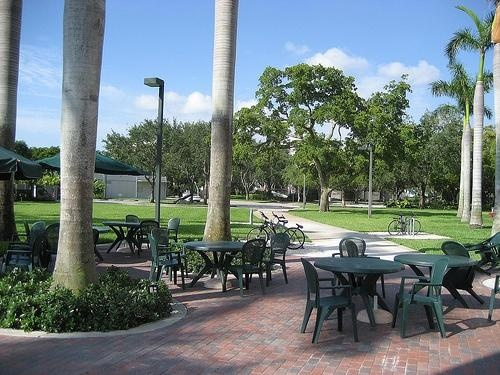bicycle: (246, 212, 310, 252), (385, 213, 426, 239)
chair: (298, 257, 361, 347), (394, 259, 454, 340), (218, 240, 268, 304), (145, 235, 187, 291), (263, 229, 294, 290), (331, 233, 380, 265), (8, 236, 43, 280), (136, 220, 162, 258), (160, 213, 183, 253), (122, 212, 142, 248)
